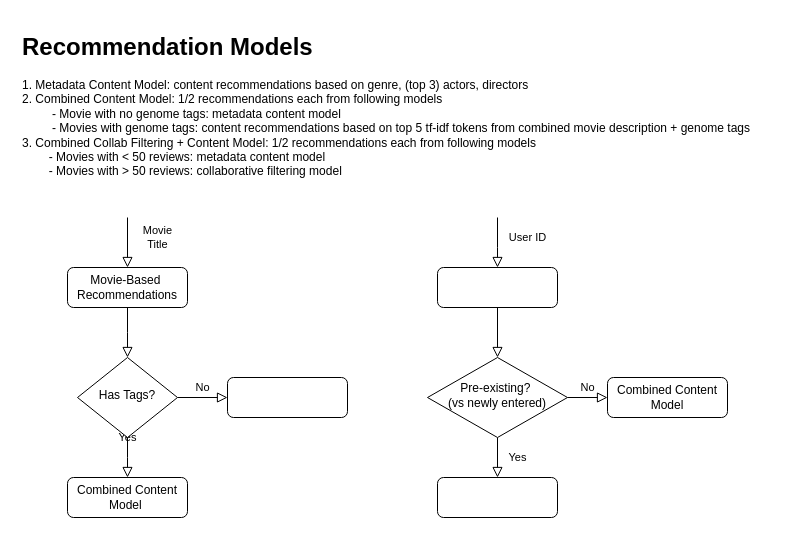
Some shapes in this 794 by 536 pixel diagram are drawn without their labels. The centre of each missing label's shape, as x and y in pixels:
"Combined Collab Filtering + Content Model" belongs at point (497, 497).
"Metadata Content Model" belongs at point (287, 397).
"Personalized Recommendations" belongs at point (497, 287).
